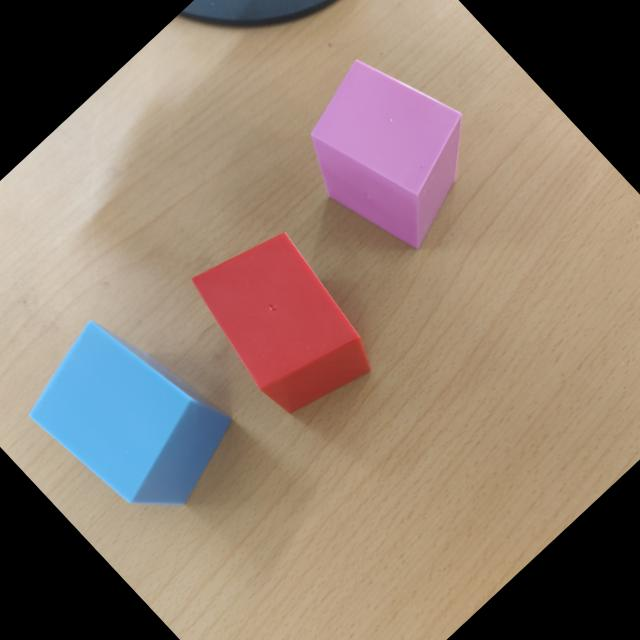blue: (30, 320, 234, 507)
pink: (312, 60, 465, 250)
red: (194, 233, 372, 415)
